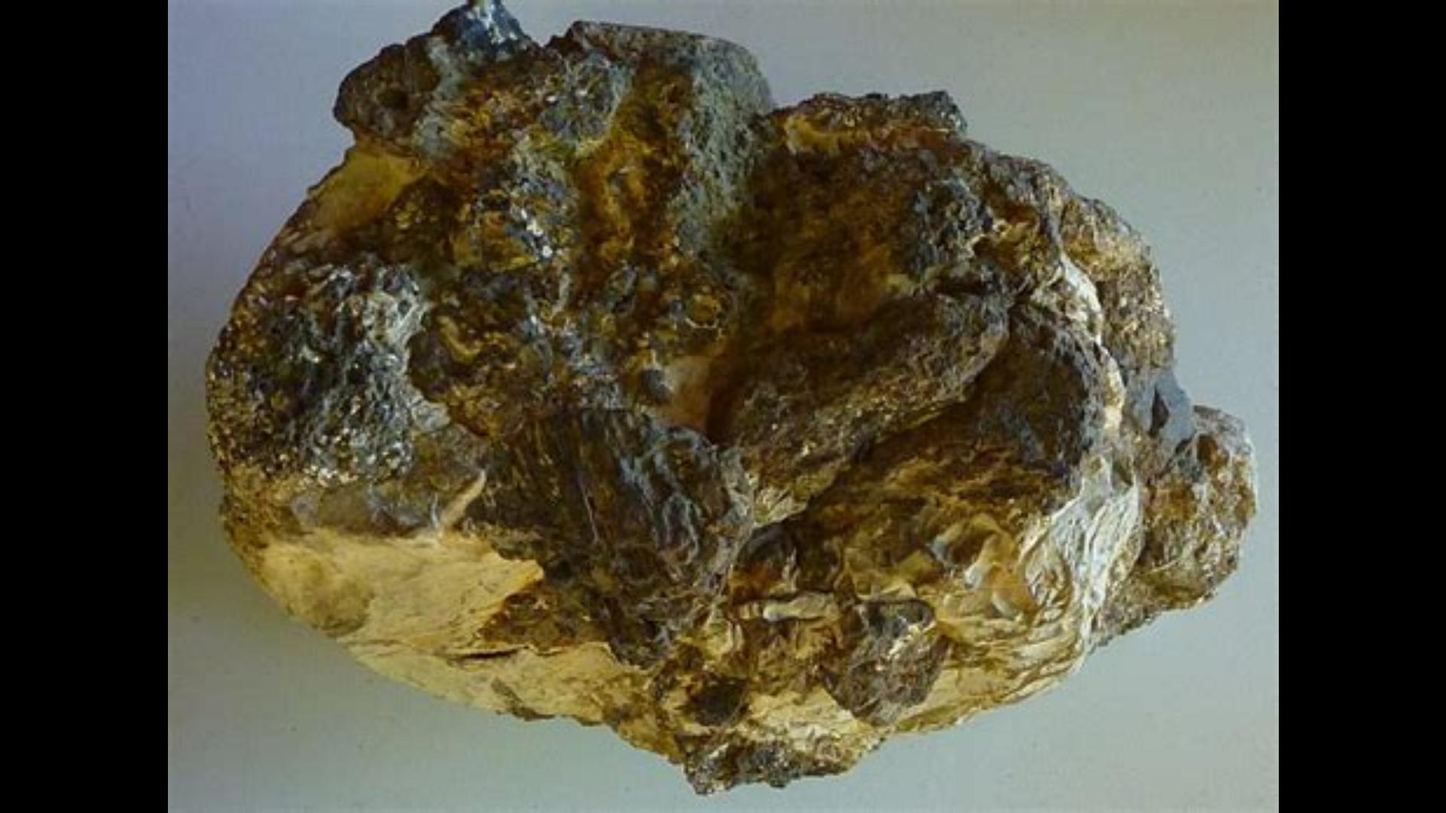rock: (209, 0, 1252, 790)
